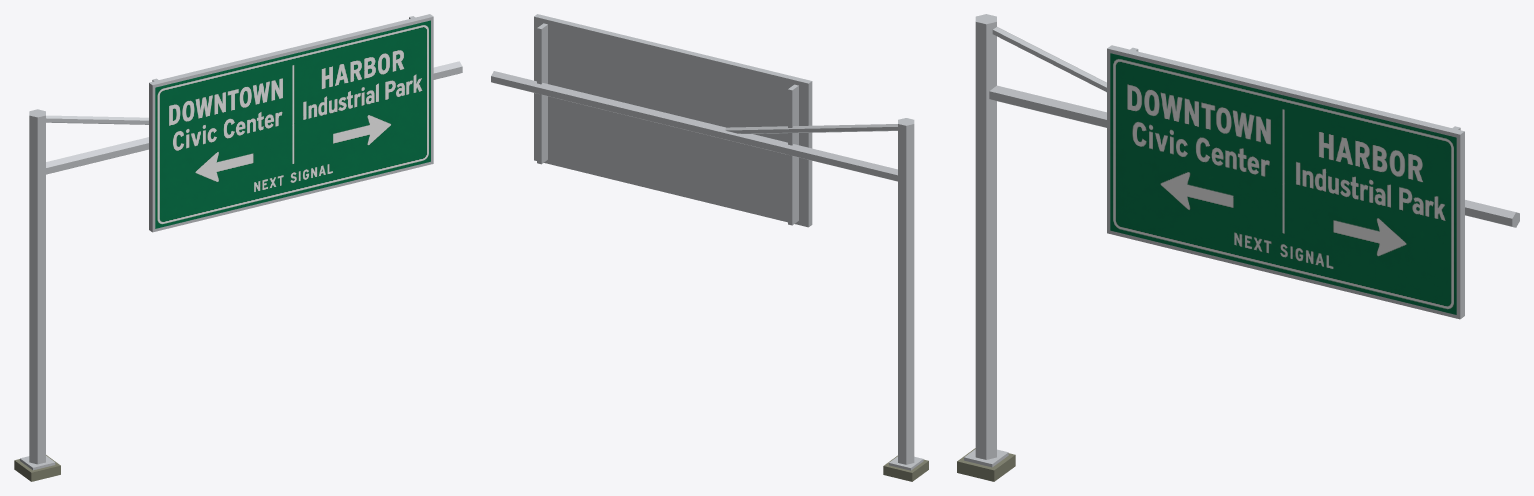
3 renders of one model, left to right at view 1: azimuth 30°, elevation 25°; view 2: azimuth 150°, elevation 25°; view 3: azimuth 330°, elevation 25°, orthographic. The views are drawn at different scales.
Visible parts, largest first — view 1: RoadSign_124; view 2: RoadSign_124; view 3: RoadSign_124.
Boxes of the visible parts, <box> form: RoadSign_124: <box>14,14,462,481</box>; RoadSign_124: <box>491,14,928,481</box>; RoadSign_124: <box>957,14,1519,481</box>.
Size of the model in its own units: 12.42 by 10 by 0.886.
3 materials, 1 textured.
